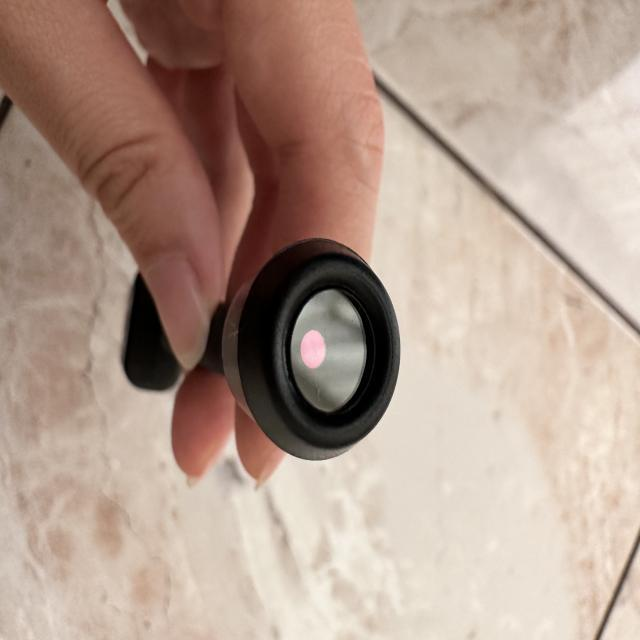hidden camera: (273, 250, 404, 451)
